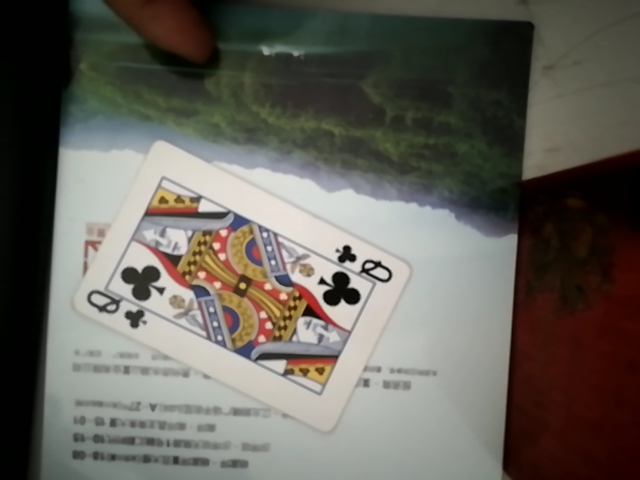mh q: (67, 134, 412, 437)
